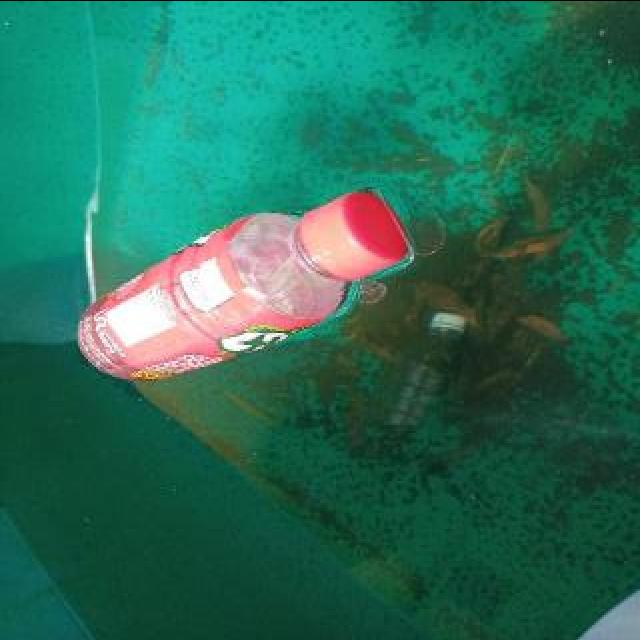Bottle: (76, 190, 416, 384)
